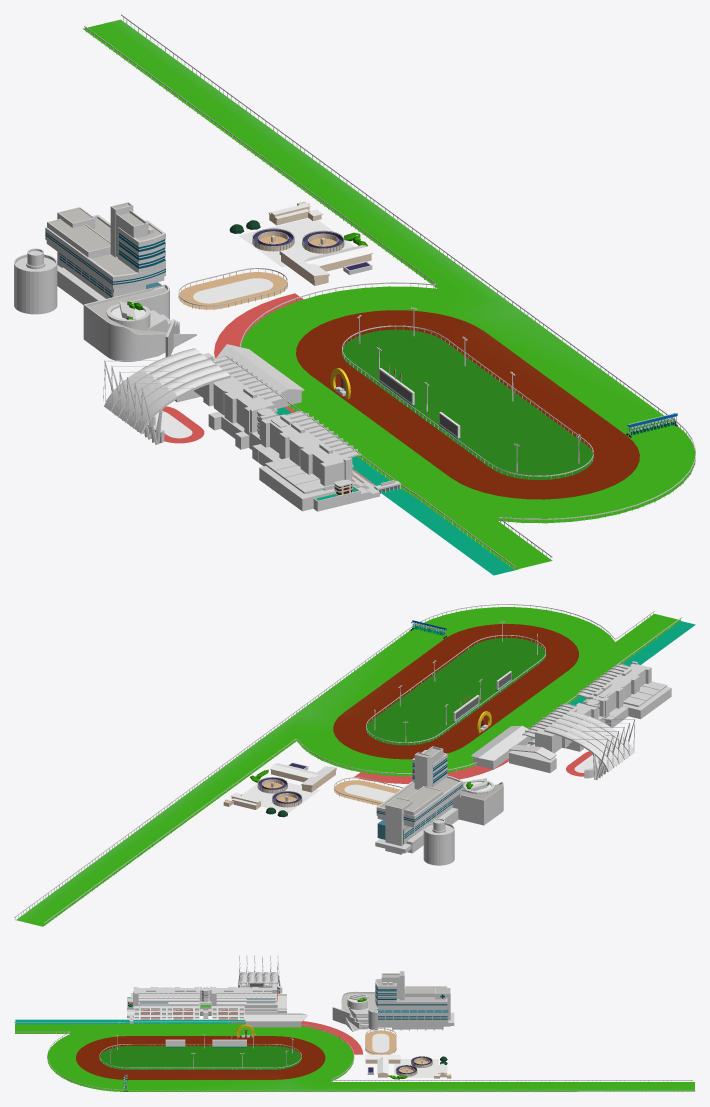
File: map_01.glb
3 renders of one model, top to bottom at view 1: azimuth 30°, elevation 25°; view 2: azimuth 150°, elevation 25°; view 3: azimuth 270°, elevation 25°, orthographic. The views are drawn at different scales.
Parts seen in each view (by area): view 1: turf track, floor.001, Cube.121, Cube.002, Cube.006, Plane.009, Cylinder.010, Cube.117, T.002, T.003, Cube.000, Cube.120 (+13 smaller); view 2: turf track, floor.001, Cube.002, Cube.121, T.002, Cylinder.010, Cube.006, Plane.007, Cube.117, Plane.009, T.003, Cube.093 (+12 smaller); view 3: turf track, floor.001, T.002, T.003, Cube.174, Plane.007, Cube.117, Plane.009, Cube.121, T.004, Cube.000, Cube.120 (+19 smaller).
Part boxes in pixels (box(x1,y1,x2,y2)): turf track: box(83, 19, 695, 569); floor.001: box(214, 293, 517, 575); Cube.121: box(83, 284, 196, 361); Cube.002: box(104, 353, 230, 433); Cube.006: box(261, 414, 347, 490); Plane.009: box(178, 272, 287, 309); Cylinder.010: box(14, 248, 57, 314); Cube.117: box(45, 214, 165, 288); T.002: box(121, 14, 695, 558); T.003: box(84, 26, 515, 569); Cube.000: box(191, 353, 274, 434); Cube.120: box(118, 220, 165, 272); turf track: box(16, 607, 680, 926); floor.001: box(354, 621, 695, 783); Cube.002: box(544, 714, 634, 771); Cube.121: box(452, 782, 503, 825); T.002: box(14, 604, 654, 919); Cylinder.010: box(423, 818, 454, 865); Cube.006: box(589, 663, 651, 717); Plane.007: box(471, 725, 530, 769); Cube.117: box(376, 775, 462, 824); Plane.009: box(334, 780, 399, 805); T.003: box(44, 617, 682, 925); Cube.093: box(509, 744, 556, 772); turf track: box(15, 1024, 694, 1091); floor.001: box(15, 1019, 362, 1054); T.002: box(15, 1031, 695, 1092); T.003: box(14, 1021, 693, 1081); Cube.174: box(378, 1008, 448, 1022); Plane.007: box(245, 1013, 307, 1027); Cube.117: box(375, 989, 447, 1008); Plane.009: box(365, 1030, 396, 1054); Cube.121: box(341, 991, 377, 1031); T.004: box(99, 1044, 301, 1069); Cube.000: box(211, 984, 276, 1005); Cube.120: box(375, 979, 396, 1002).
Size of the model in its own units: 154 by 37.82 by 417.
